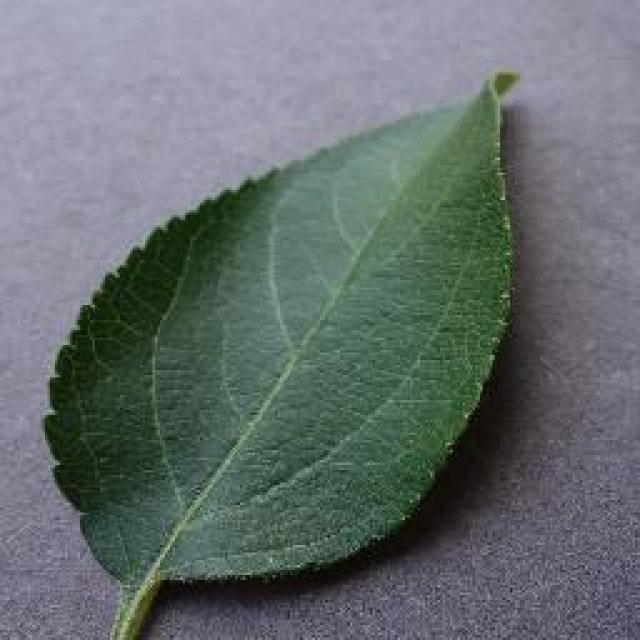apple healthy: (40, 65, 522, 637)
